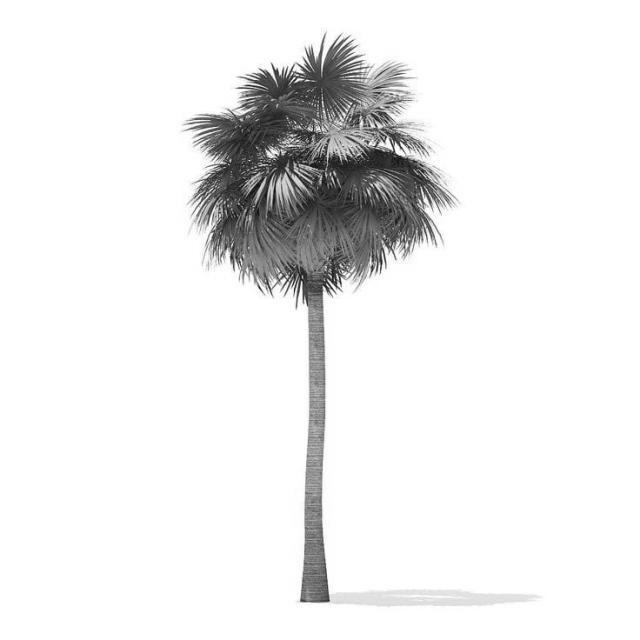Plam-Tree: (174, 48, 476, 612), (206, 68, 422, 288)
